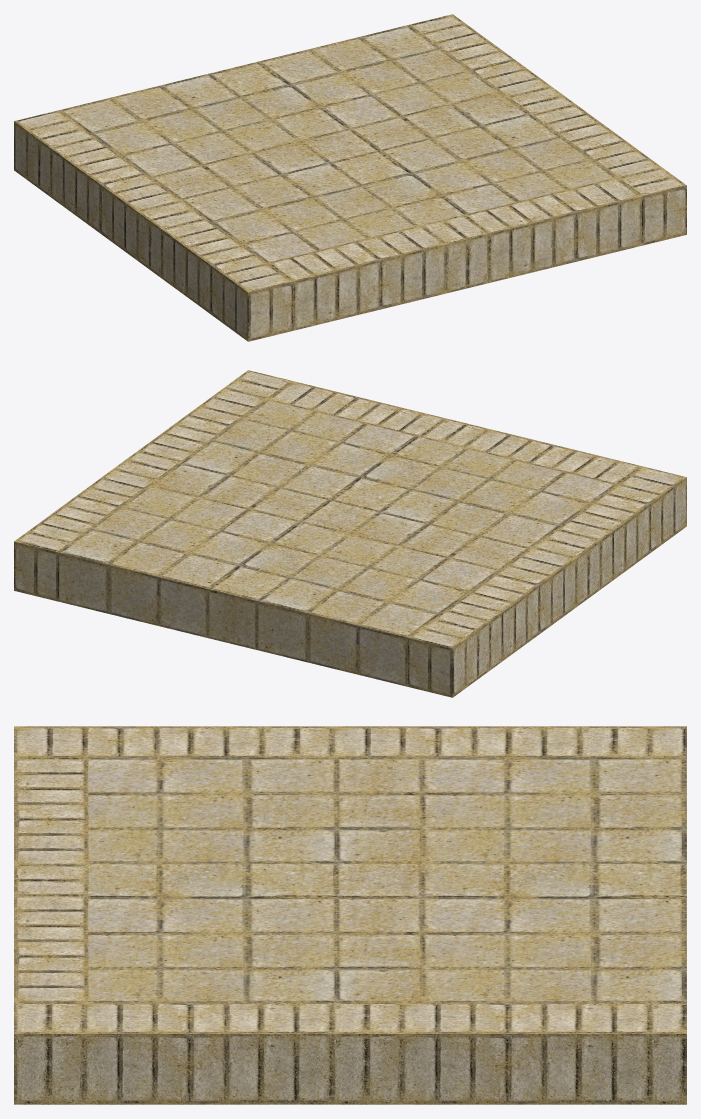
File: bridge_structure_platform01.dae
The picture shows the model from 3 angles, top to bottom: view 1: azimuth 30°, elevation 25°; view 2: azimuth 150°, elevation 25°; view 3: azimuth 270°, elevation 25°; orthographic projection. The views are drawn at different scales.
Parts seen in each view (by area): view 1: bridge_structure_platform01; view 2: bridge_structure_platform01; view 3: bridge_structure_platform01.
Boxes of the visible parts, <box> form: bridge_structure_platform01: <box>14,14,686,341</box>; bridge_structure_platform01: <box>14,370,686,697</box>; bridge_structure_platform01: <box>14,726,686,1104</box>.
Size of the model in its own units: 7.26 by 6.71 by 0.7778.
2 materials, 2 textured.
